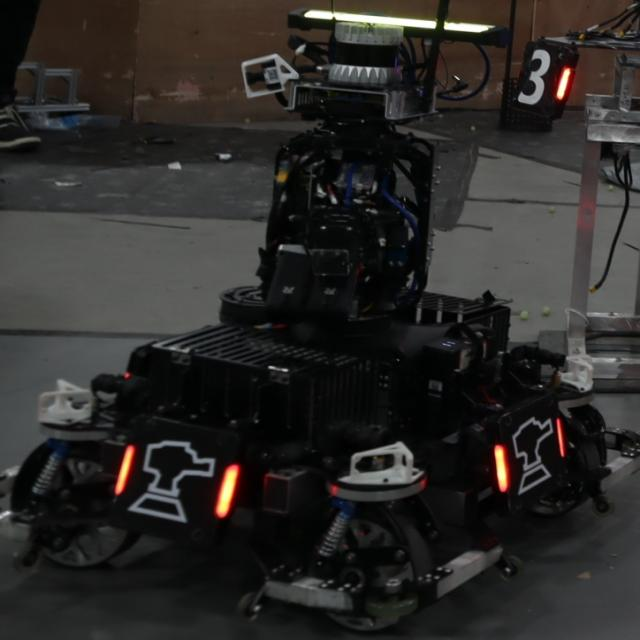R3: (514, 43, 570, 111)
Rs: (112, 435, 239, 525), (489, 412, 566, 500)
